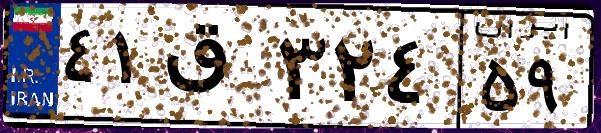1: (110, 28, 158, 98)
2: (330, 28, 385, 110)
3: (270, 28, 330, 110)
4: (385, 28, 445, 110), (57, 26, 110, 100)
5: (475, 38, 525, 113)
9: (525, 38, 570, 115)
ق: (158, 20, 270, 120)
